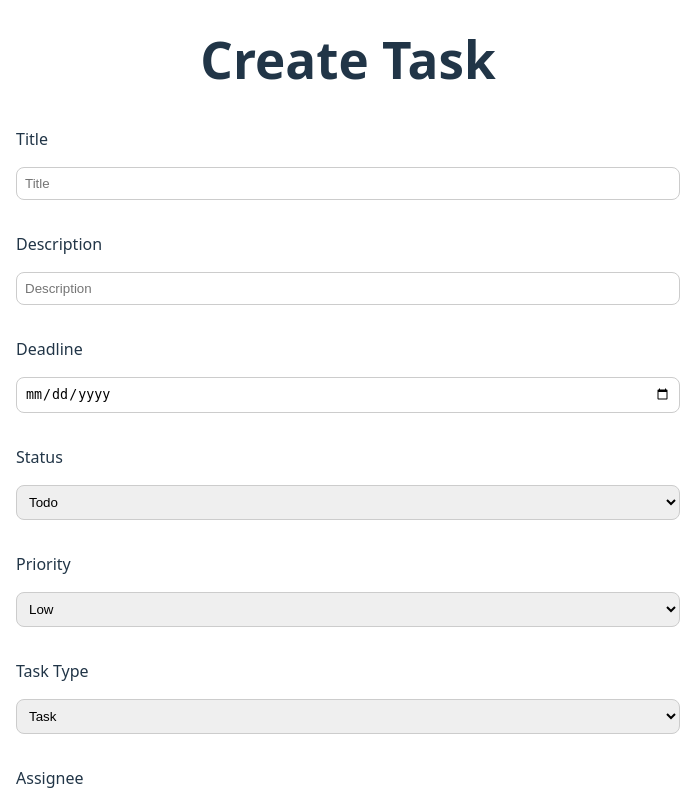
Scenario: CreateTaskPage › submit button should be enabled if the form is valid
The width and height of the screenshot is (697, 801).
Type "Test Task" into the field with placeholder "Title" at x=348, y=184, box [16,167,680,200]
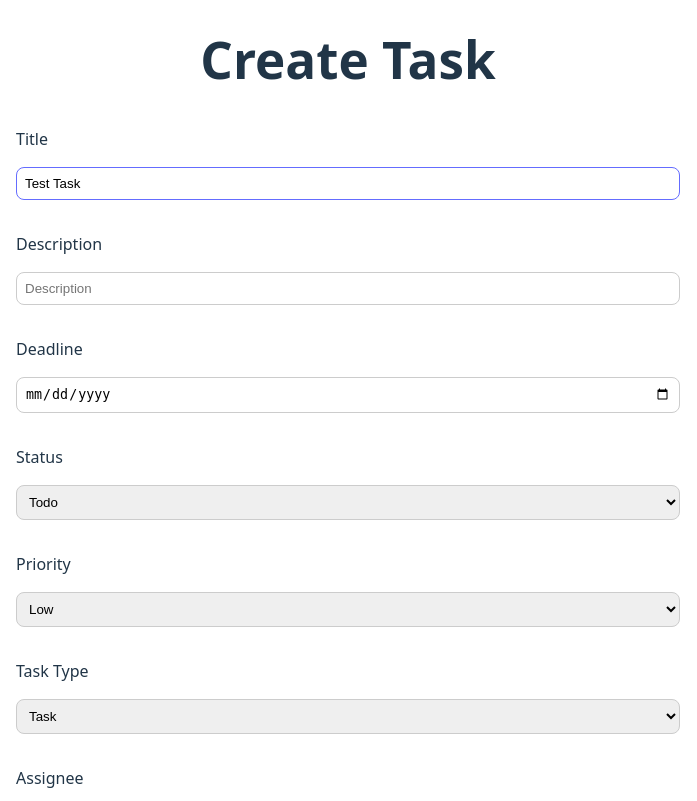
Press Tab
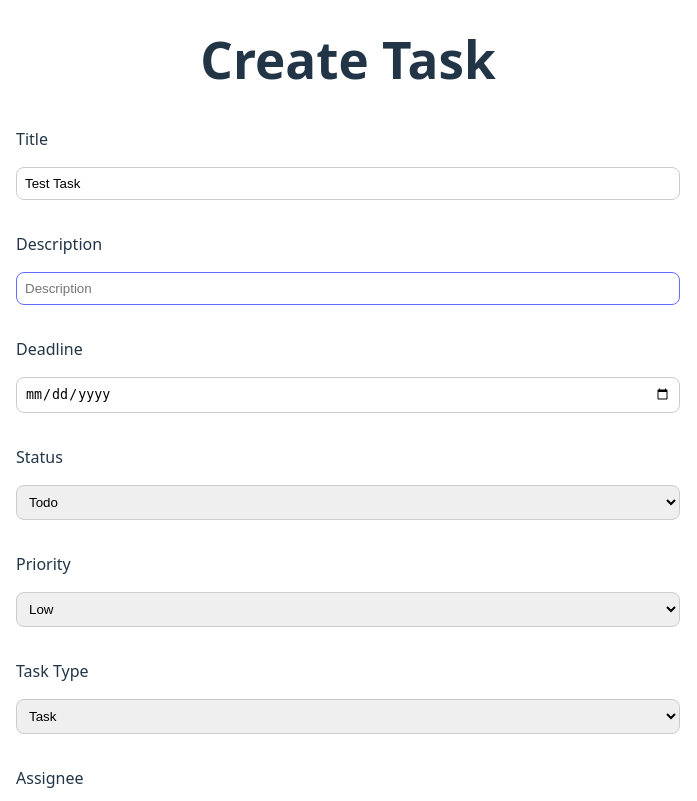
Type "2099-12-31" into the date field labelled "Deadline" at x=348, y=395, box [16,377,680,413]
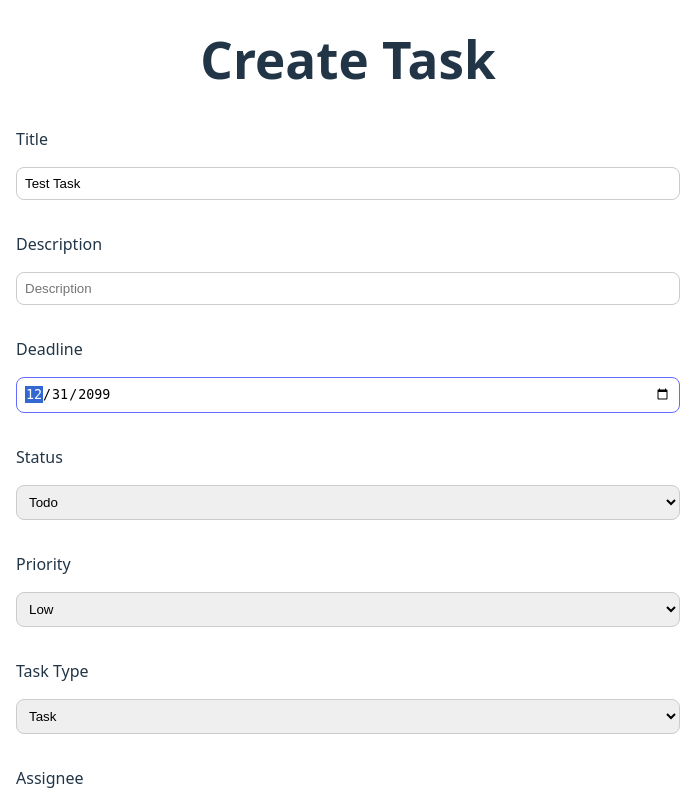
Press Tab
(page scrolled)
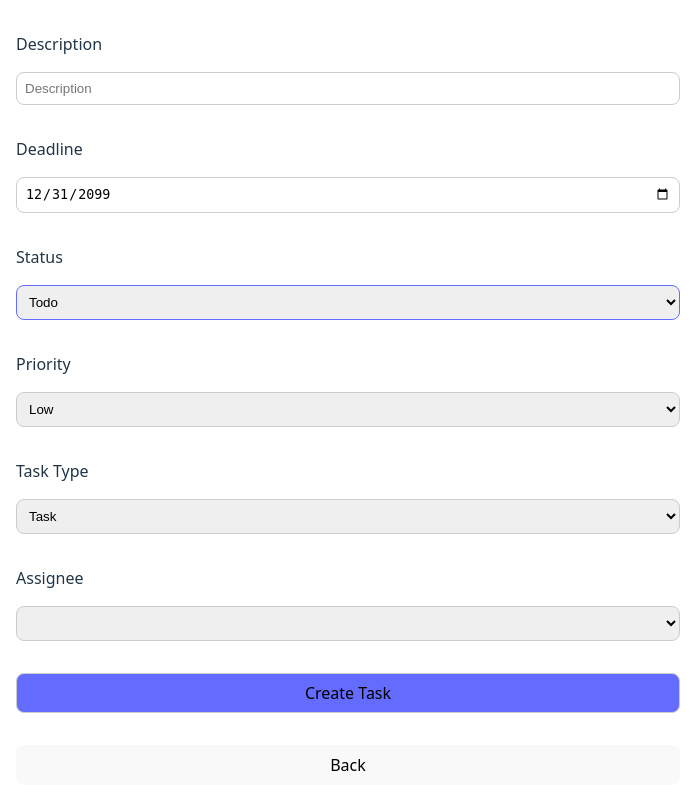
Result: the button "Create Task" is enabled at [16,673,680,713]
